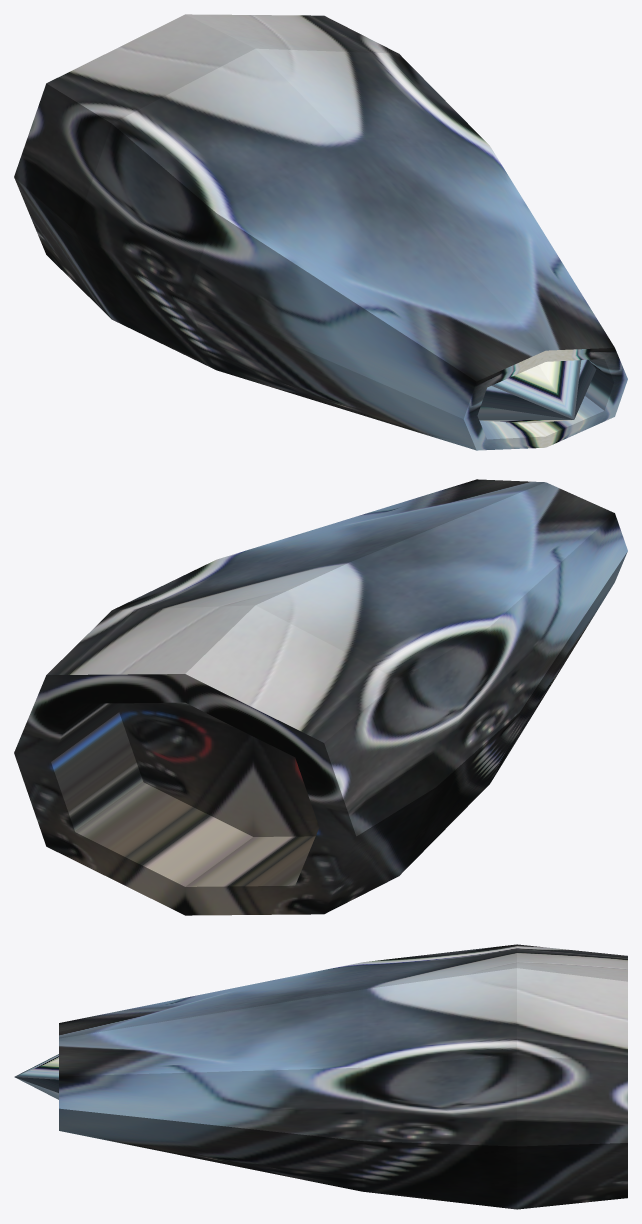
3 renders of one model, top to bottom at view 1: azimuth 30°, elevation 25°; view 2: azimuth 150°, elevation 25°; view 3: azimuth 270°, elevation 25°, orthographic. The views are drawn at different scales.
Visible parts, largest first — view 1: Engine-2.002_Cube.027; view 2: Engine-2.002_Cube.027; view 3: Engine-2.002_Cube.027.
Boxes of the visible parts, bbox=[...] form: Engine-2.002_Cube.027: bbox=[14, 14, 627, 450]; Engine-2.002_Cube.027: bbox=[14, 479, 627, 915]; Engine-2.002_Cube.027: bbox=[14, 944, 627, 1209].
Size of the model in its own units: 6.13 by 4.48 by 11.45.
